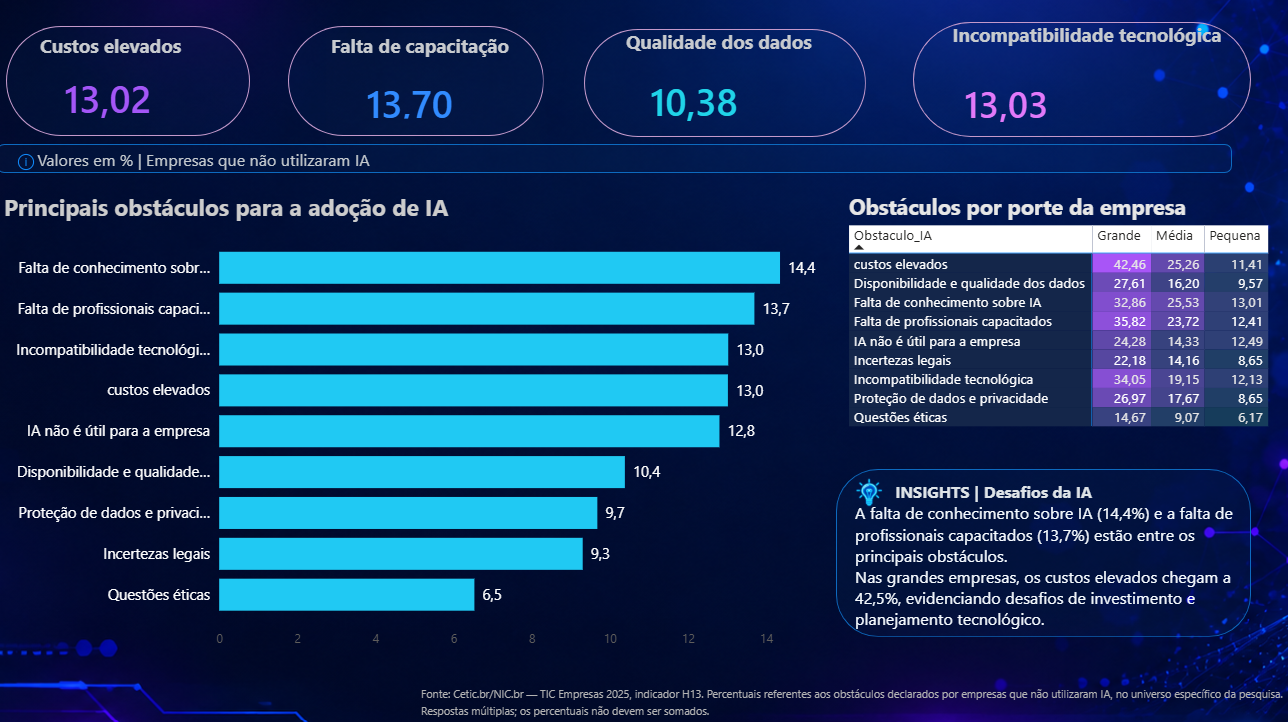

The dashboard page shown, as its layout file describes it:
{"tool":"powerbi","page":{"name":"Desafios da IA","canvas":[1280,720],"ordinal":2},"visuals":[{"type":"clusteredBarChart","title":"Principais obstáculos para a adoção de IA","fields":{"Category":["H13.Obstaculo_IA"],"Y":["Avg(H13.Percentual)"]},"box":[2,192.1,821.8,460.4],"z":0},{"type":"cardVisual","title":"Custos elevados","fields":{"Data":["Avg(H13.Percentual)"]},"box":[37.6,34.7,199,124.8],"z":1000},{"type":"cardVisual","title":"Falta de capacitação","fields":{"Data":["Avg(H13.Percentual)"]},"box":[325.7,34.7,211.9,113.9],"z":2000},{"type":"cardVisual","title":"Qualidade dos dados","fields":{"Data":["Avg(H13.Percentual)"]},"box":[617.8,30.7,220.8,113.9],"z":3000},{"type":"cardVisual","title":"Incompatibilidade tecnológica","fields":{"Data":["Avg(H13.Percentual)"]},"box":[913.9,23.8,337.6,127.7],"z":4000},{"type":"pivotTable","title":"Obstáculos por porte da empresa","fields":{"Rows":["H13.Obstaculo_IA"],"Columns":["H13.Grupo"],"Values":["Avg(H13.Percentual)"]},"box":[838.6,192.1,428.7,239.6],"z":5000},{"type":"textbox","box":[844.6,473.3,406.9,166.3],"z":5001},{"type":"image","box":[847.5,473.3,31.7,32.7],"z":5002},{"type":"shape","box":[830.7,466.3,410.9,166.3],"z":5003},{"type":"textbox","box":[414.9,674.3,865.3,45.5],"z":5004},{"type":"shape","box":[8.9,27.7,241.6,108.9],"z":5005},{"type":"shape","box":[288.1,27.7,253.5,108.9],"z":5006},{"type":"shape","box":[581.2,30.7,279.2,106.9],"z":5007},{"type":"shape","box":[906.9,23.8,334.7,113.9],"z":5008},{"type":"textbox","box":[30.7,144.6,385.1,36.6],"z":5009},{"type":"shape","box":[0,144.6,1222.8,28.7],"z":5010},{"type":"actionButton","box":[15.8,149.5,28.7,25.7],"z":5011}]}

Visuals, with their boxes in screenshot pixels (x1, y1, x2, y2), scaled from the page's 1280x720 canvas onto the 1288x722 screenshot:
"Principais obstáculos para a adoção de IA" clusteredBarChart: <box>2,193,829,654</box>
"Custos elevados" cardVisual: <box>38,35,238,160</box>
"Falta de capacitação" cardVisual: <box>328,35,541,149</box>
"Qualidade dos dados" cardVisual: <box>622,31,844,145</box>
"Incompatibilidade tecnológica" cardVisual: <box>920,24,1259,152</box>
"Obstáculos por porte da empresa" pivotTable: <box>844,193,1275,433</box>
textbox: <box>850,475,1259,641</box>
image: <box>853,475,885,507</box>
shape: <box>836,468,1249,634</box>
textbox: <box>417,676,1287,721</box>
shape: <box>9,28,252,137</box>
shape: <box>290,28,545,137</box>
shape: <box>585,31,866,138</box>
shape: <box>913,24,1249,138</box>
textbox: <box>31,145,418,182</box>
shape: <box>0,145,1230,174</box>
actionButton: <box>16,150,45,176</box>
